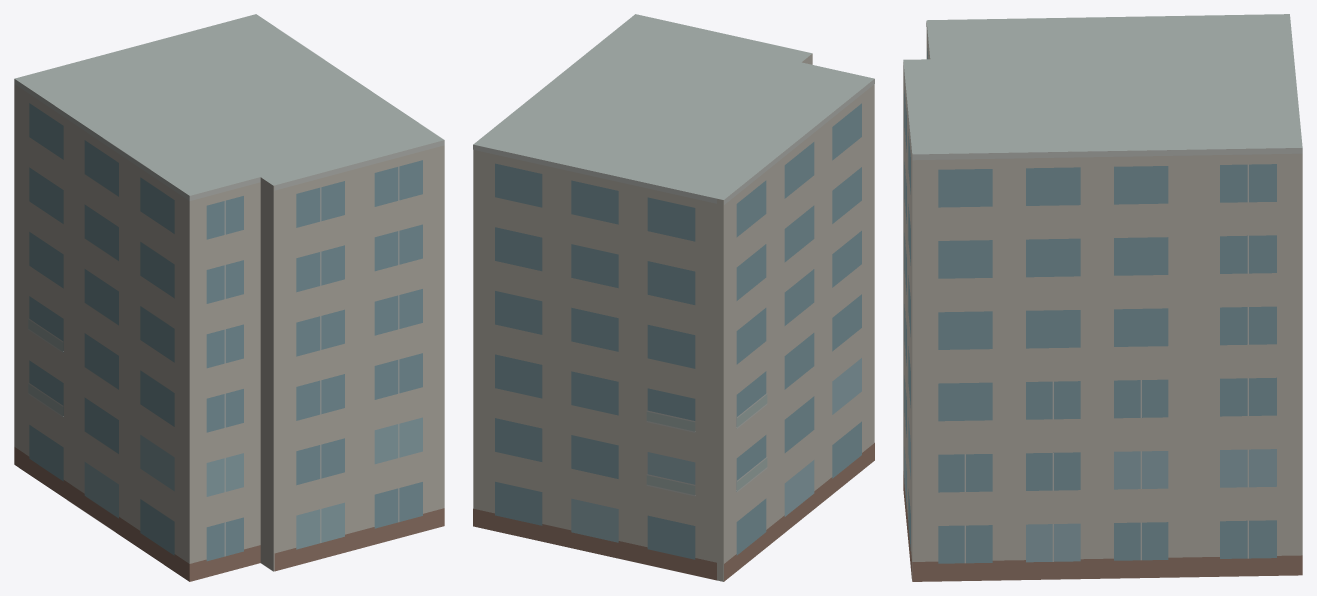
File: survey-upis-32623692.glb
3 views of the same model, side by side, from view 1: azimuth 30°, elevation 25°; view 2: azimuth 150°, elevation 25°; view 3: azimuth 270°, elevation 25° (orthographic). The views are drawn at different scales.
Parts seen in each view (by area): view 1: survey-upis-32623692.tmp; view 2: survey-upis-32623692.tmp; view 3: survey-upis-32623692.tmp.
Part boxes in pixels (x1,y1,x2,y2): survey-upis-32623692.tmp: (14, 14, 444, 581); survey-upis-32623692.tmp: (473, 14, 874, 581); survey-upis-32623692.tmp: (903, 14, 1302, 581).
Size of the model in its own units: 12.69 by 18 by 15.25.
